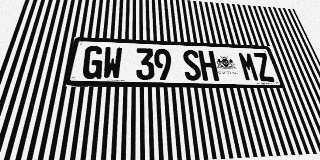3: (136, 48, 154, 80)
9: (154, 49, 173, 80)
G: (81, 46, 104, 79)
H: (198, 50, 219, 81)
M: (237, 52, 260, 81)
S: (182, 50, 202, 81)
W: (102, 47, 122, 79)
Z: (252, 53, 276, 82)
